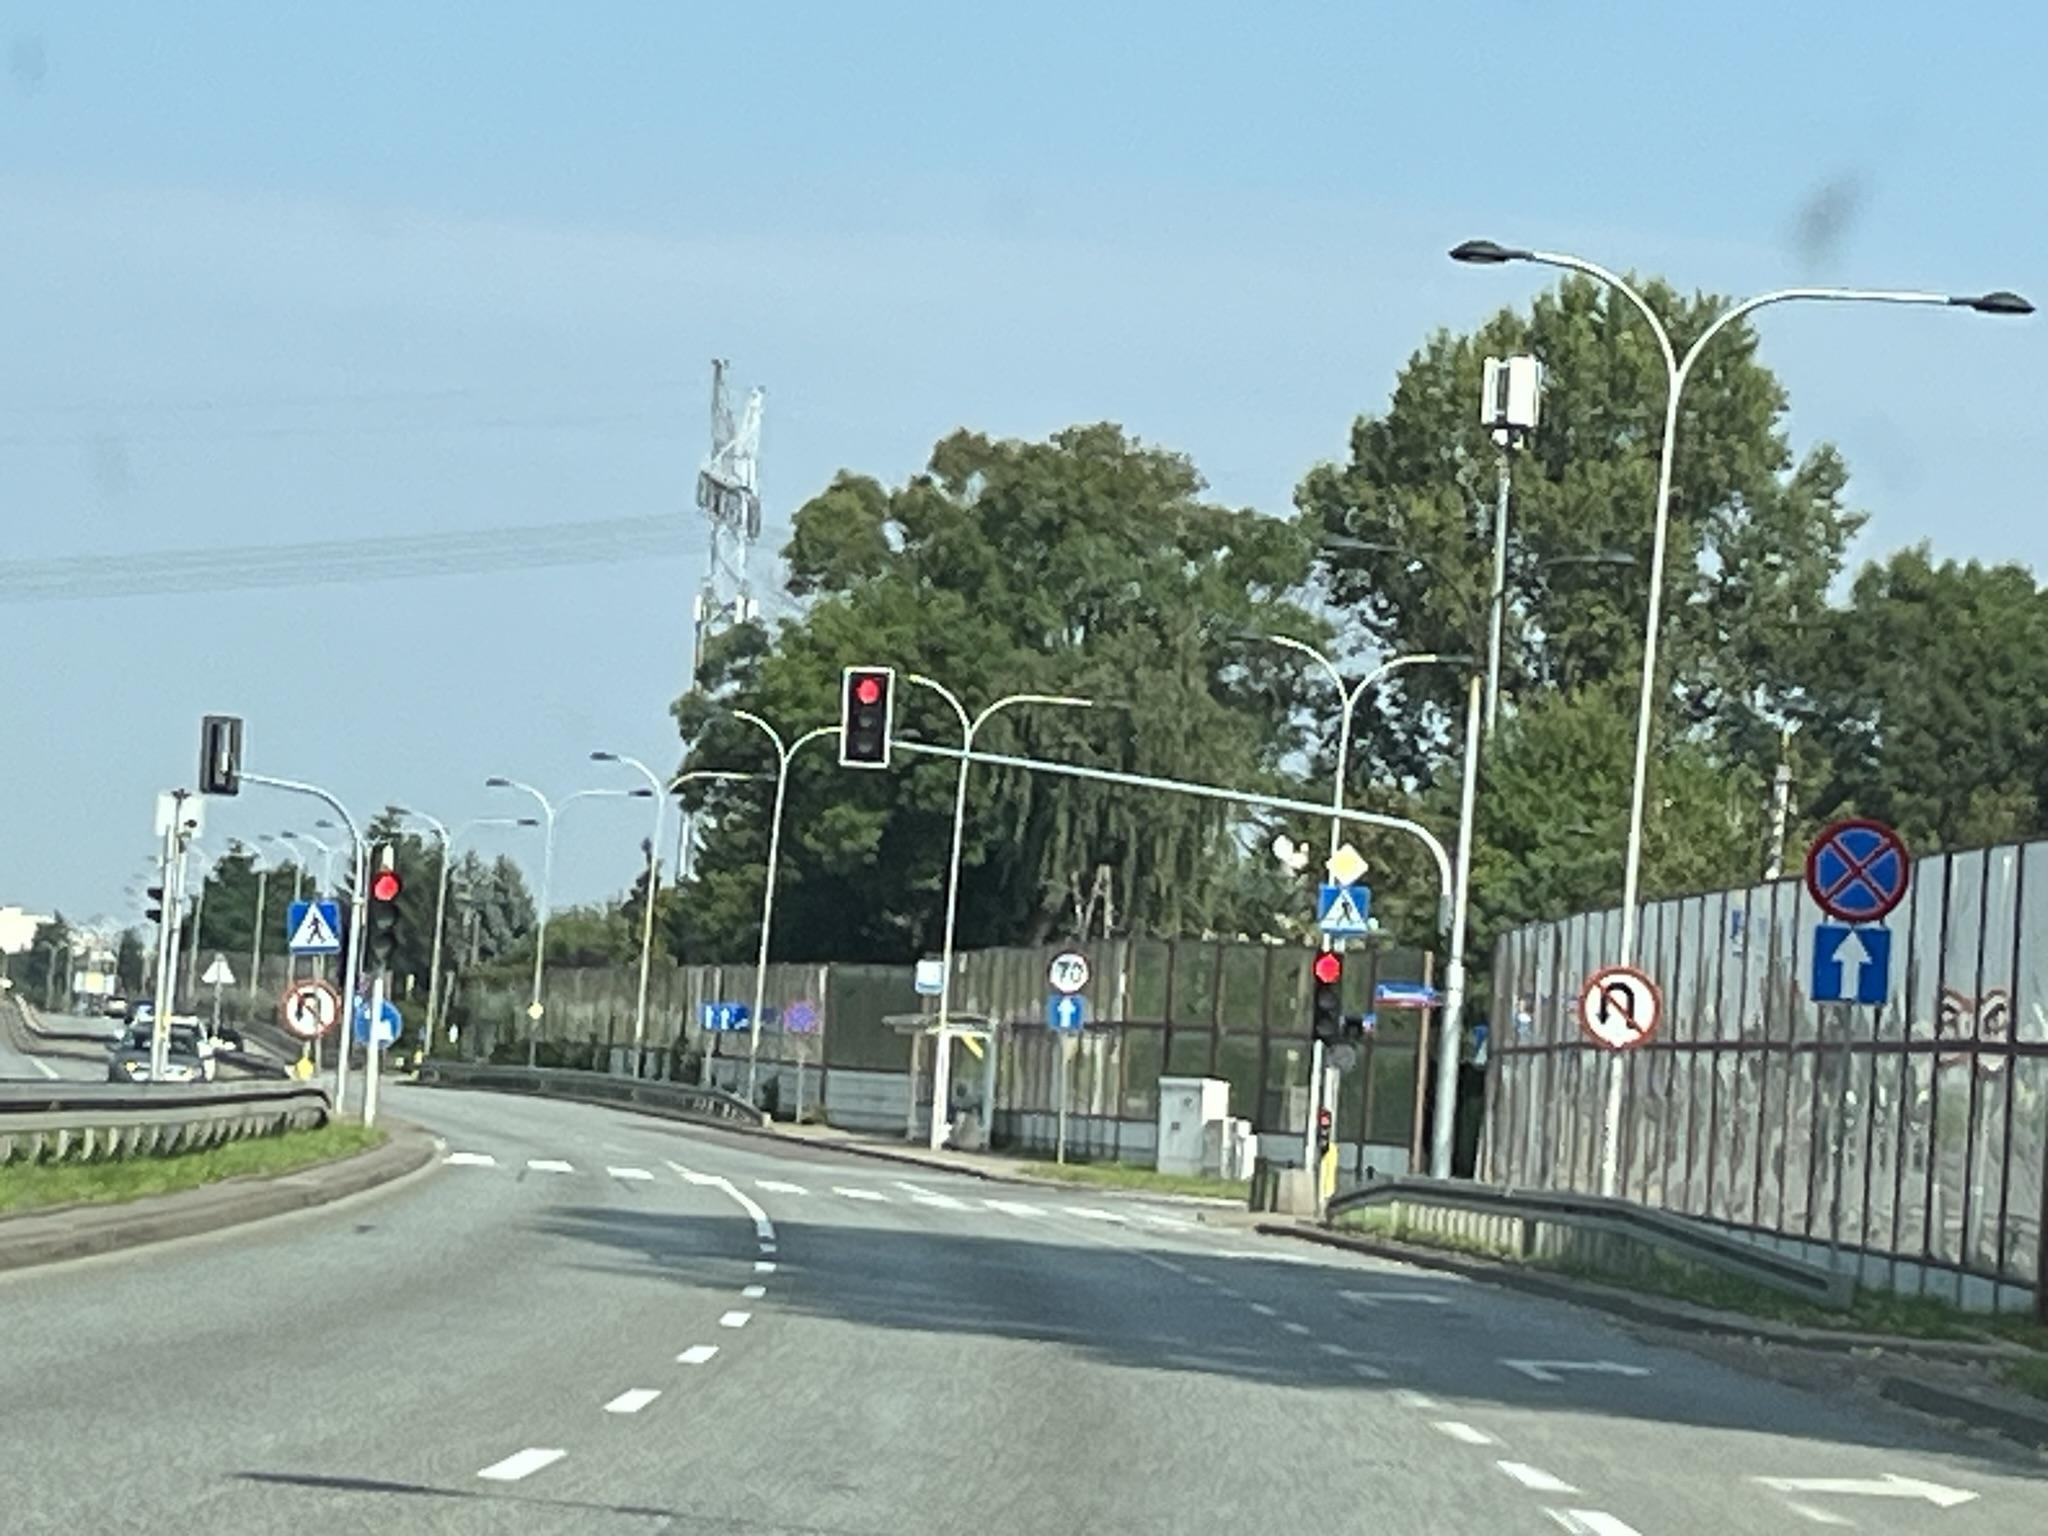information: (1813, 926, 1890, 1002), (285, 902, 342, 955), (1316, 886, 1369, 934), (1324, 841, 1369, 886)
mandatory: (1047, 994, 1085, 1031)
prohibitory: (1806, 816, 1913, 925), (1577, 965, 1663, 1050), (281, 981, 340, 1039), (1045, 947, 1095, 995)
